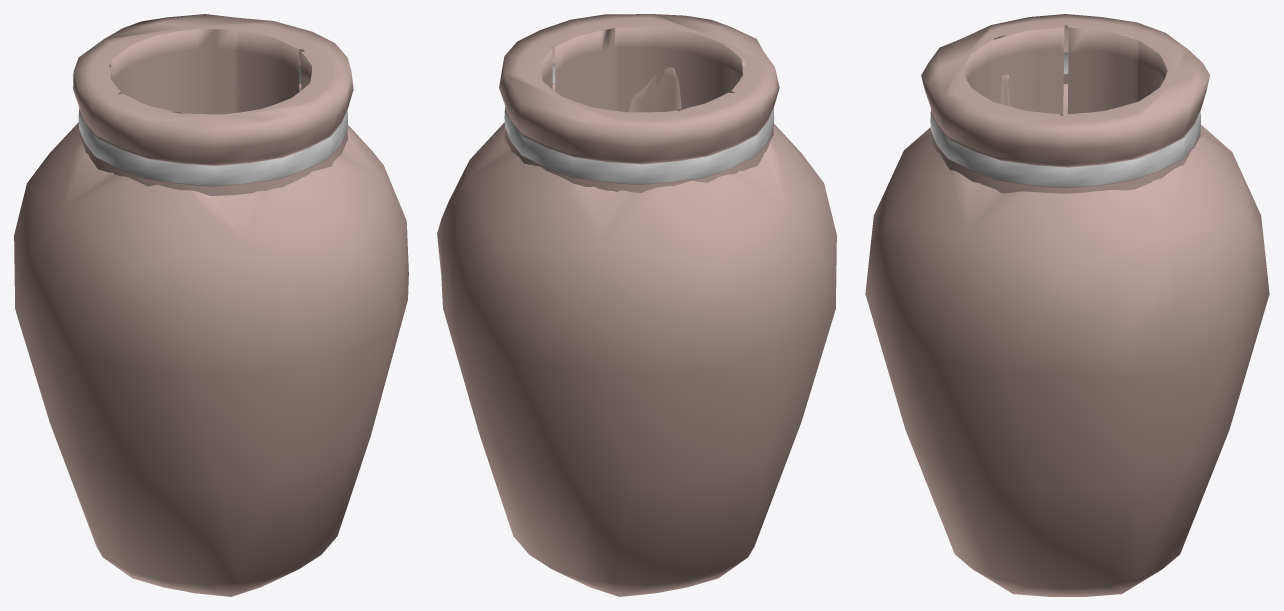
The model's file is skinnyjar.fbx.
The picture shows the model from 3 angles, left to right: view 1: azimuth 30°, elevation 25°; view 2: azimuth 150°, elevation 25°; view 3: azimuth 270°, elevation 25°; orthographic projection.
Visible parts, largest first — view 1: Icosphere; view 2: Icosphere; view 3: Icosphere.
Part boxes in pixels (x1,y1,x2,y2): Icosphere: [14, 14, 408, 596]; Icosphere: [437, 14, 836, 596]; Icosphere: [865, 14, 1269, 596].
Bounding box in the file's own units: 115 × 157 × 117.
